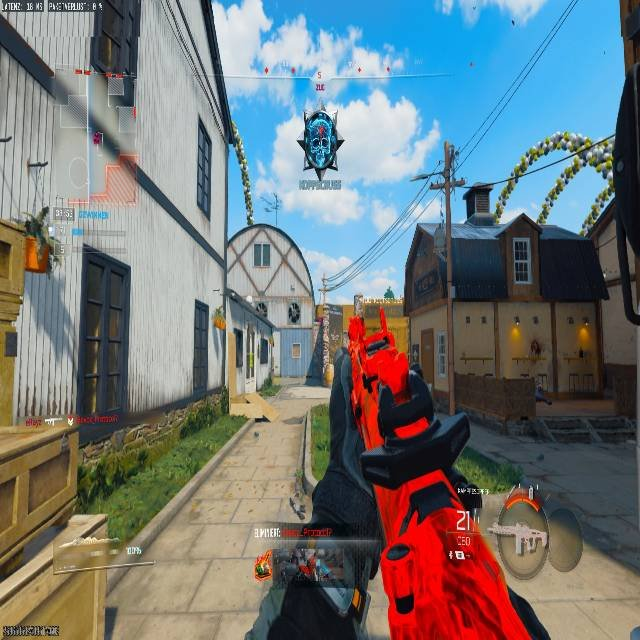player: (288, 302, 301, 323)
